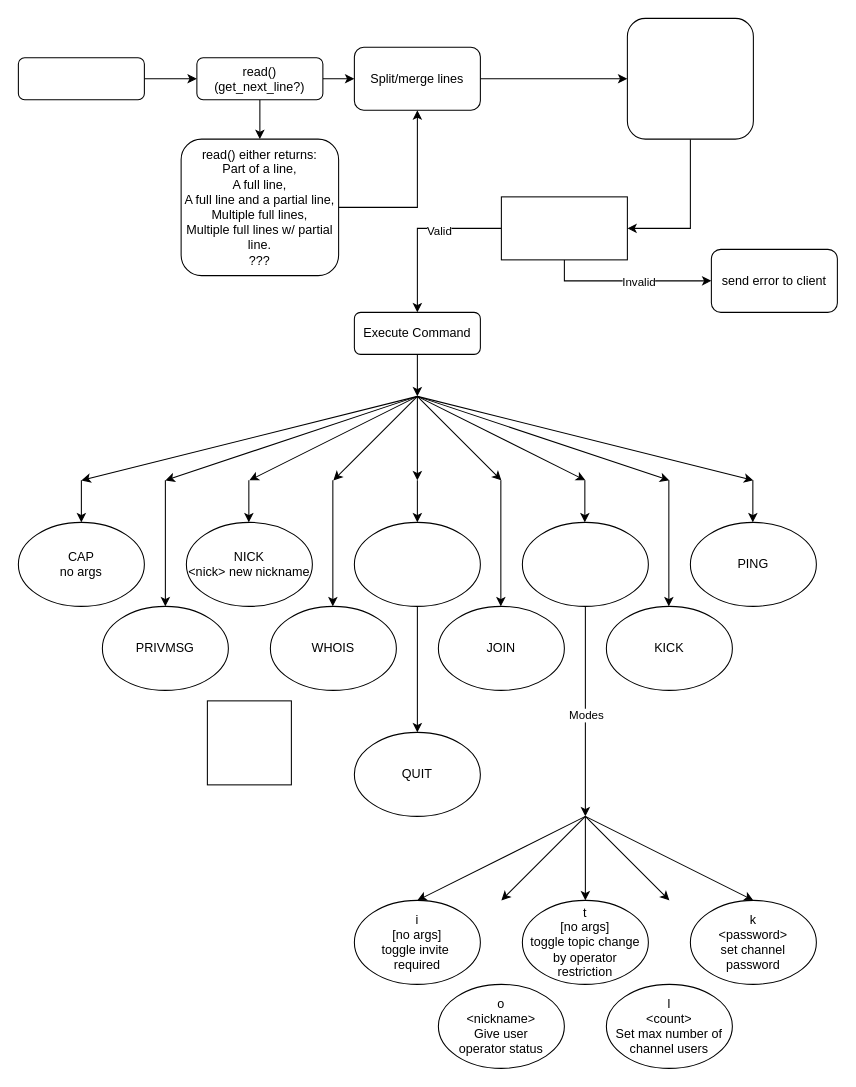
This 856x1087 diagram has some shape labels left out. The box of each missing label's shape, as (x1, y1, x2, y2) in pixels:
All command send a reply to the client.: (206, 700, 291, 785)
Build Command: <string cmd> <vector<string> args>: (626, 17, 753, 139)
epoll tells us to read from FD: (17, 57, 144, 100)
MODE <#channel> <mode><mode args>: (521, 521, 648, 606)
USER: (353, 521, 480, 606)
validate: (500, 196, 627, 260)
